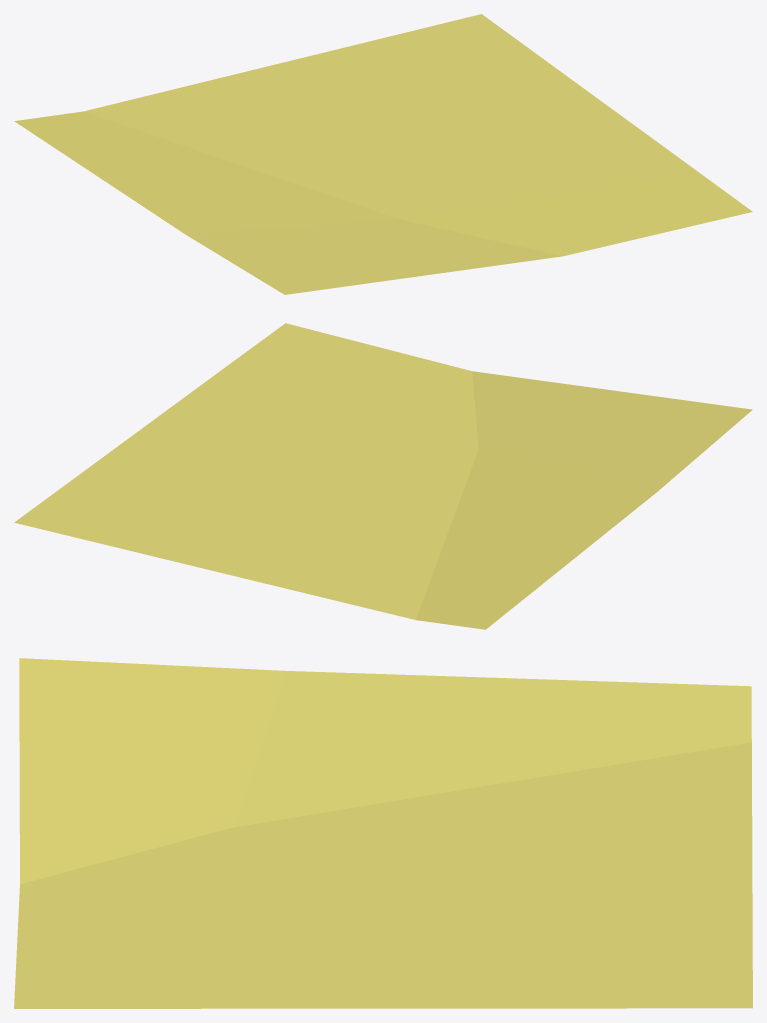
File: PostItNoteSingle.fbx
The picture shows the model from 3 angles, top to bottom: view 1: azimuth 30°, elevation 25°; view 2: azimuth 150°, elevation 25°; view 3: azimuth 270°, elevation 25°; orthographic projection. The views are drawn at different scales.
Visible parts, largest first — view 1: Plane; view 2: Plane; view 3: Plane.
Boxes of the visible parts, x1,y1,x2,y2 form: Plane: (14, 14, 752, 294); Plane: (14, 323, 752, 629); Plane: (14, 658, 752, 1008).
Size of the model in its own units: 10.01 by 0.604 by 10.01.
